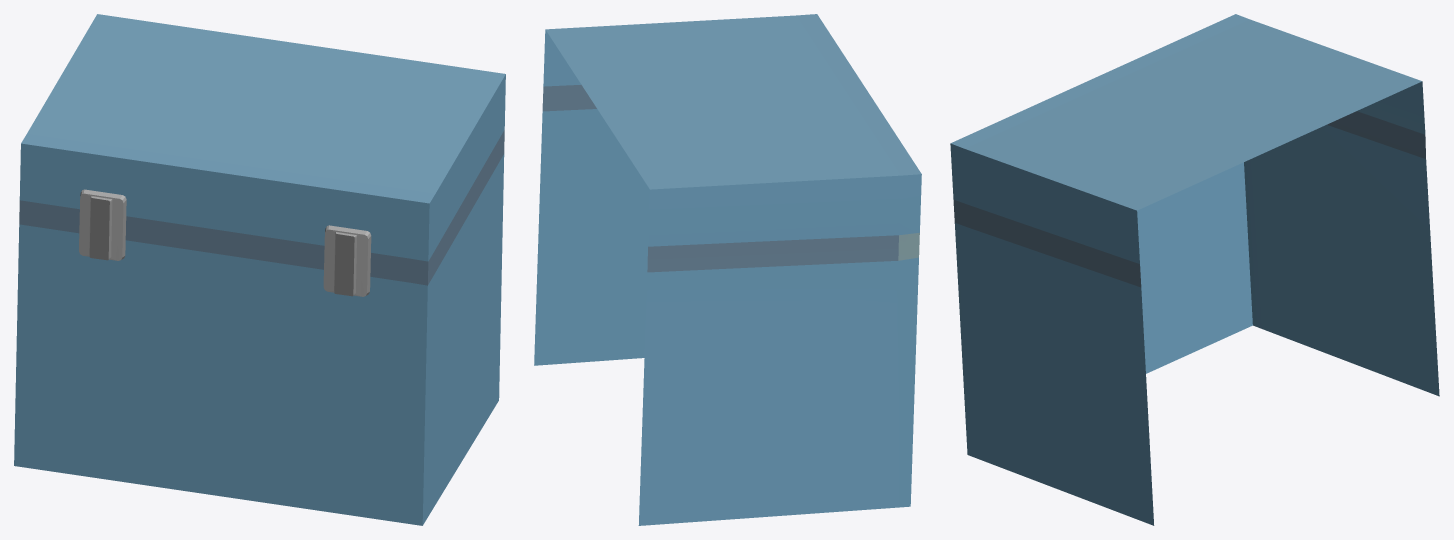
File: MSH_QuestObject_box_02.fbx
The picture shows the model from 3 angles, left to right: view 1: azimuth 30°, elevation 25°; view 2: azimuth 150°, elevation 25°; view 3: azimuth 270°, elevation 25°; orthographic projection. The views are drawn at different scales.
Parts seen in each view (by area): view 1: MSH_QuestObject_box_02; view 2: MSH_QuestObject_box_02; view 3: MSH_QuestObject_box_02.
Part boxes in pixels (x1,y1,x2,y2): MSH_QuestObject_box_02: (14,14,505,525); MSH_QuestObject_box_02: (534,14,921,525); MSH_QuestObject_box_02: (950,14,1439,525).
Bounding box in the file's own units: 1.63 × 1.28 × 1.69.
